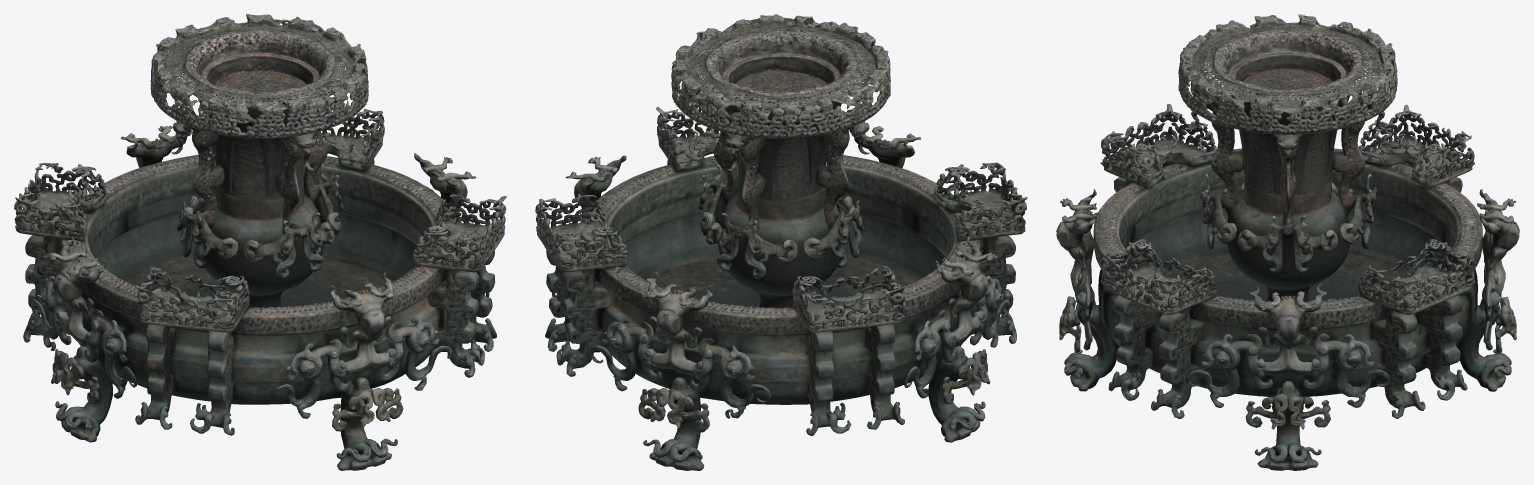
The model's file is bronze-vessel.glb.
3 views of the same model, side by side, from view 1: azimuth 30°, elevation 25°; view 2: azimuth 150°, elevation 25°; view 3: azimuth 270°, elevation 25° (orthographic).
Visible parts, largest first — view 1: bronze-vessel; view 2: bronze-vessel; view 3: bronze-vessel.
Part boxes in pixels (x1,y1,x2,y2): bronze-vessel: (14,14,506,470); bronze-vessel: (535,14,1027,470); bronze-vessel: (1056,14,1519,470).
Size of the model in its own units: 0.9793 by 0.7516 by 0.9784.
Materials: 1 (1 with a texture image).
